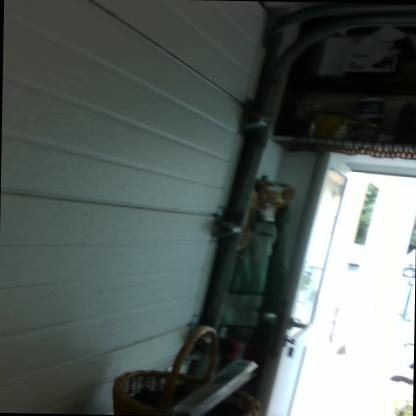open: (258, 137, 416, 412)
